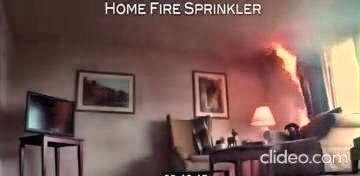fire: (254, 29, 308, 83)
